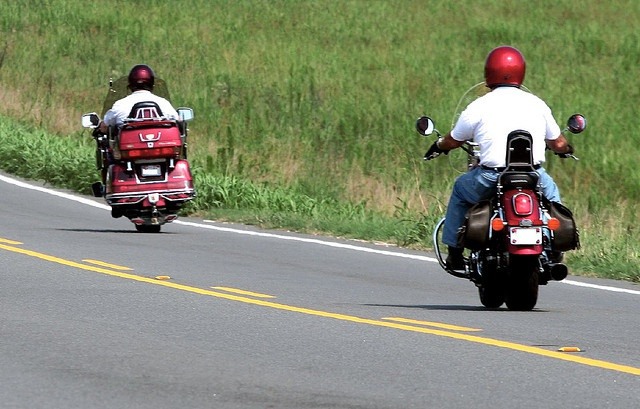non-vehicle: (415, 81, 586, 309), (81, 75, 197, 233)
